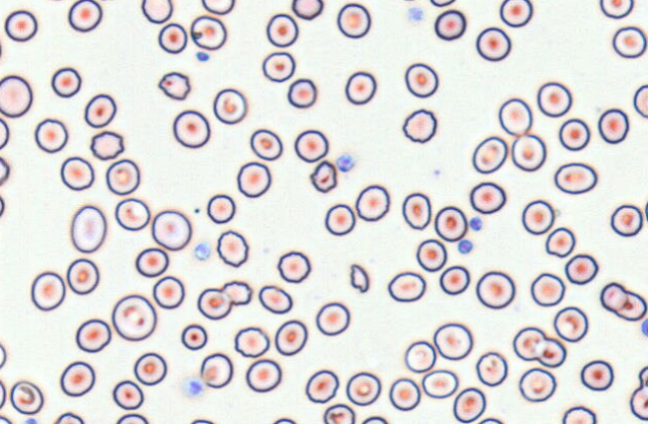PLT: (181, 377, 203, 398), (194, 241, 213, 262), (337, 153, 356, 173), (407, 6, 425, 23), (458, 238, 475, 254), (468, 216, 483, 233), (195, 50, 213, 64)
RBC: (111, 294, 156, 341), (70, 204, 107, 253), (151, 209, 192, 251), (475, 270, 515, 309), (433, 322, 473, 360), (172, 109, 210, 148), (30, 270, 65, 311), (554, 161, 597, 194), (0, 74, 32, 118), (472, 135, 507, 174), (59, 360, 95, 397), (518, 367, 556, 402), (498, 97, 532, 136), (190, 14, 226, 50), (536, 81, 572, 117), (511, 134, 546, 171), (236, 161, 271, 198), (105, 158, 140, 195), (355, 184, 390, 221), (212, 87, 247, 124), (553, 306, 588, 342), (75, 318, 111, 353), (345, 371, 381, 406), (401, 108, 437, 143), (336, 2, 371, 38), (475, 26, 511, 61), (452, 386, 486, 423), (66, 257, 99, 295), (315, 301, 350, 336), (199, 352, 233, 388), (245, 358, 281, 392), (114, 197, 150, 231), (521, 199, 555, 235), (404, 62, 438, 98), (274, 319, 307, 356), (434, 205, 467, 242), (469, 181, 506, 214), (216, 229, 248, 267), (387, 271, 426, 302), (512, 326, 546, 361), (304, 369, 339, 403), (530, 272, 565, 306), (34, 118, 68, 153), (233, 326, 270, 358), (9, 380, 43, 414), (133, 352, 167, 386), (60, 156, 94, 190), (475, 351, 508, 386), (276, 250, 311, 283), (612, 25, 647, 58), (597, 108, 629, 144), (401, 192, 431, 230), (197, 287, 231, 320), (152, 275, 185, 309), (265, 13, 298, 47), (294, 129, 328, 162), (67, 0, 102, 32), (84, 93, 116, 128), (344, 70, 376, 105), (403, 340, 436, 373), (4, 9, 37, 42), (388, 377, 420, 411), (415, 238, 447, 272), (564, 253, 598, 285), (580, 359, 614, 391), (421, 369, 458, 398), (610, 204, 643, 236), (249, 128, 282, 160), (558, 118, 590, 151), (261, 51, 295, 82), (89, 130, 124, 160), (324, 203, 355, 236), (135, 247, 169, 277), (258, 284, 292, 314), (615, 290, 647, 321), (112, 379, 144, 410), (434, 9, 466, 40), (50, 66, 81, 98), (534, 337, 566, 367), (157, 22, 187, 54), (439, 265, 470, 295), (499, 0, 533, 27), (287, 78, 317, 108), (206, 193, 235, 223), (600, 282, 627, 311), (141, 0, 173, 23), (180, 323, 207, 350), (323, 403, 355, 424), (599, 0, 634, 19), (291, 0, 323, 20), (629, 385, 647, 420), (561, 405, 596, 423), (201, 0, 235, 15), (633, 84, 647, 118), (53, 411, 84, 424), (115, 413, 149, 424), (0, 116, 9, 149), (0, 155, 9, 186), (360, 415, 388, 424), (638, 365, 648, 388), (476, 416, 504, 424), (271, 417, 298, 424), (429, 0, 456, 7), (0, 378, 6, 409), (0, 341, 6, 369), (189, 418, 217, 424), (640, 317, 648, 337), (0, 193, 5, 219), (0, 415, 12, 424), (644, 196, 648, 223), (0, 33, 2, 63), (42, 0, 69, 2), (94, 0, 123, 1), (400, 0, 422, 1)
Schistocyte: (157, 72, 191, 101), (310, 160, 337, 194), (223, 280, 253, 307), (349, 263, 370, 294)
